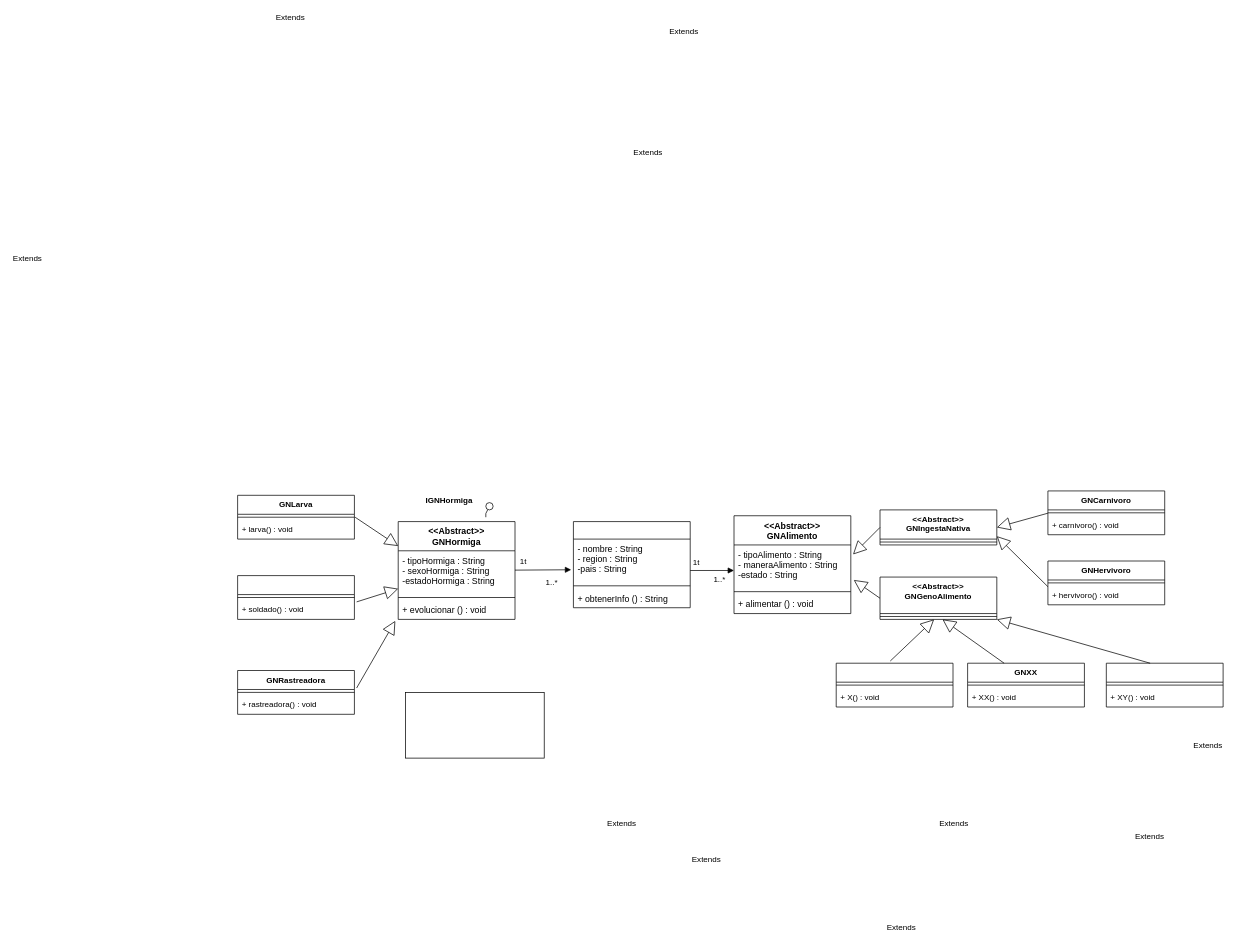
The diagram is 1236 pixels wide and 945 high, and some of its shapes have lost their labels. Here are the shapes that lost their labels. From the top down, the box of each, then its label:
(573, 521, 690, 608): GNProvincia
(237, 575, 354, 619): GNSoldado
(835, 662, 953, 707): GNX
(1106, 662, 1223, 707): GNXY
(405, 692, 544, 758): <<Interface>> IGNHormiga + comer(Alimento) : Boolean
